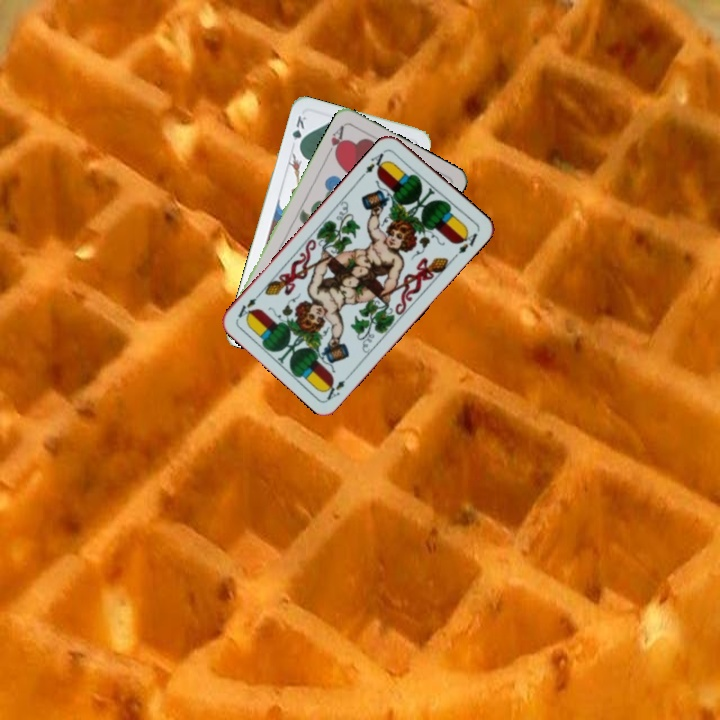EA: (321, 369, 355, 402), (358, 149, 390, 180)
GK: (288, 111, 309, 151)
HA: (323, 121, 347, 161)
